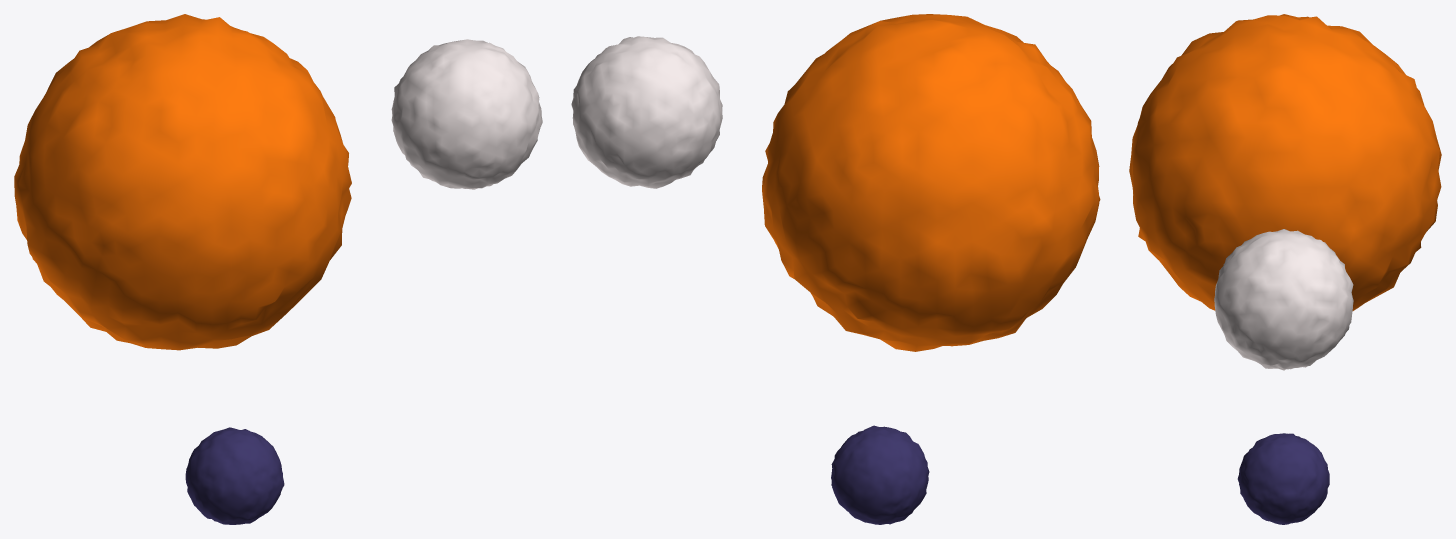
File: planets 01.fbx
3 renders of one model, left to right at view 1: azimuth 30°, elevation 25°; view 2: azimuth 150°, elevation 25°; view 3: azimuth 270°, elevation 25°, orthographic. The views are drawn at different scales.
Parts seen in each view (by area): view 1: Sphere_2, Sphere, Sphere_3; view 2: Sphere_2, Sphere, Sphere_3; view 3: Sphere_2, Sphere, Sphere_3.
Boxes of the visible parts, <box> form: Sphere_2: <box>14,14,351,350</box>; Sphere: <box>391,39,542,189</box>; Sphere_3: <box>185,427,284,524</box>; Sphere_2: <box>762,14,1100,351</box>; Sphere: <box>571,36,722,188</box>; Sphere_3: <box>831,425,929,524</box>; Sphere_2: <box>1129,14,1441,310</box>; Sphere: <box>1214,229,1353,370</box>; Sphere_3: <box>1237,433,1329,524</box>.
Size of the model in its own units: 772 by 748 by 453.
